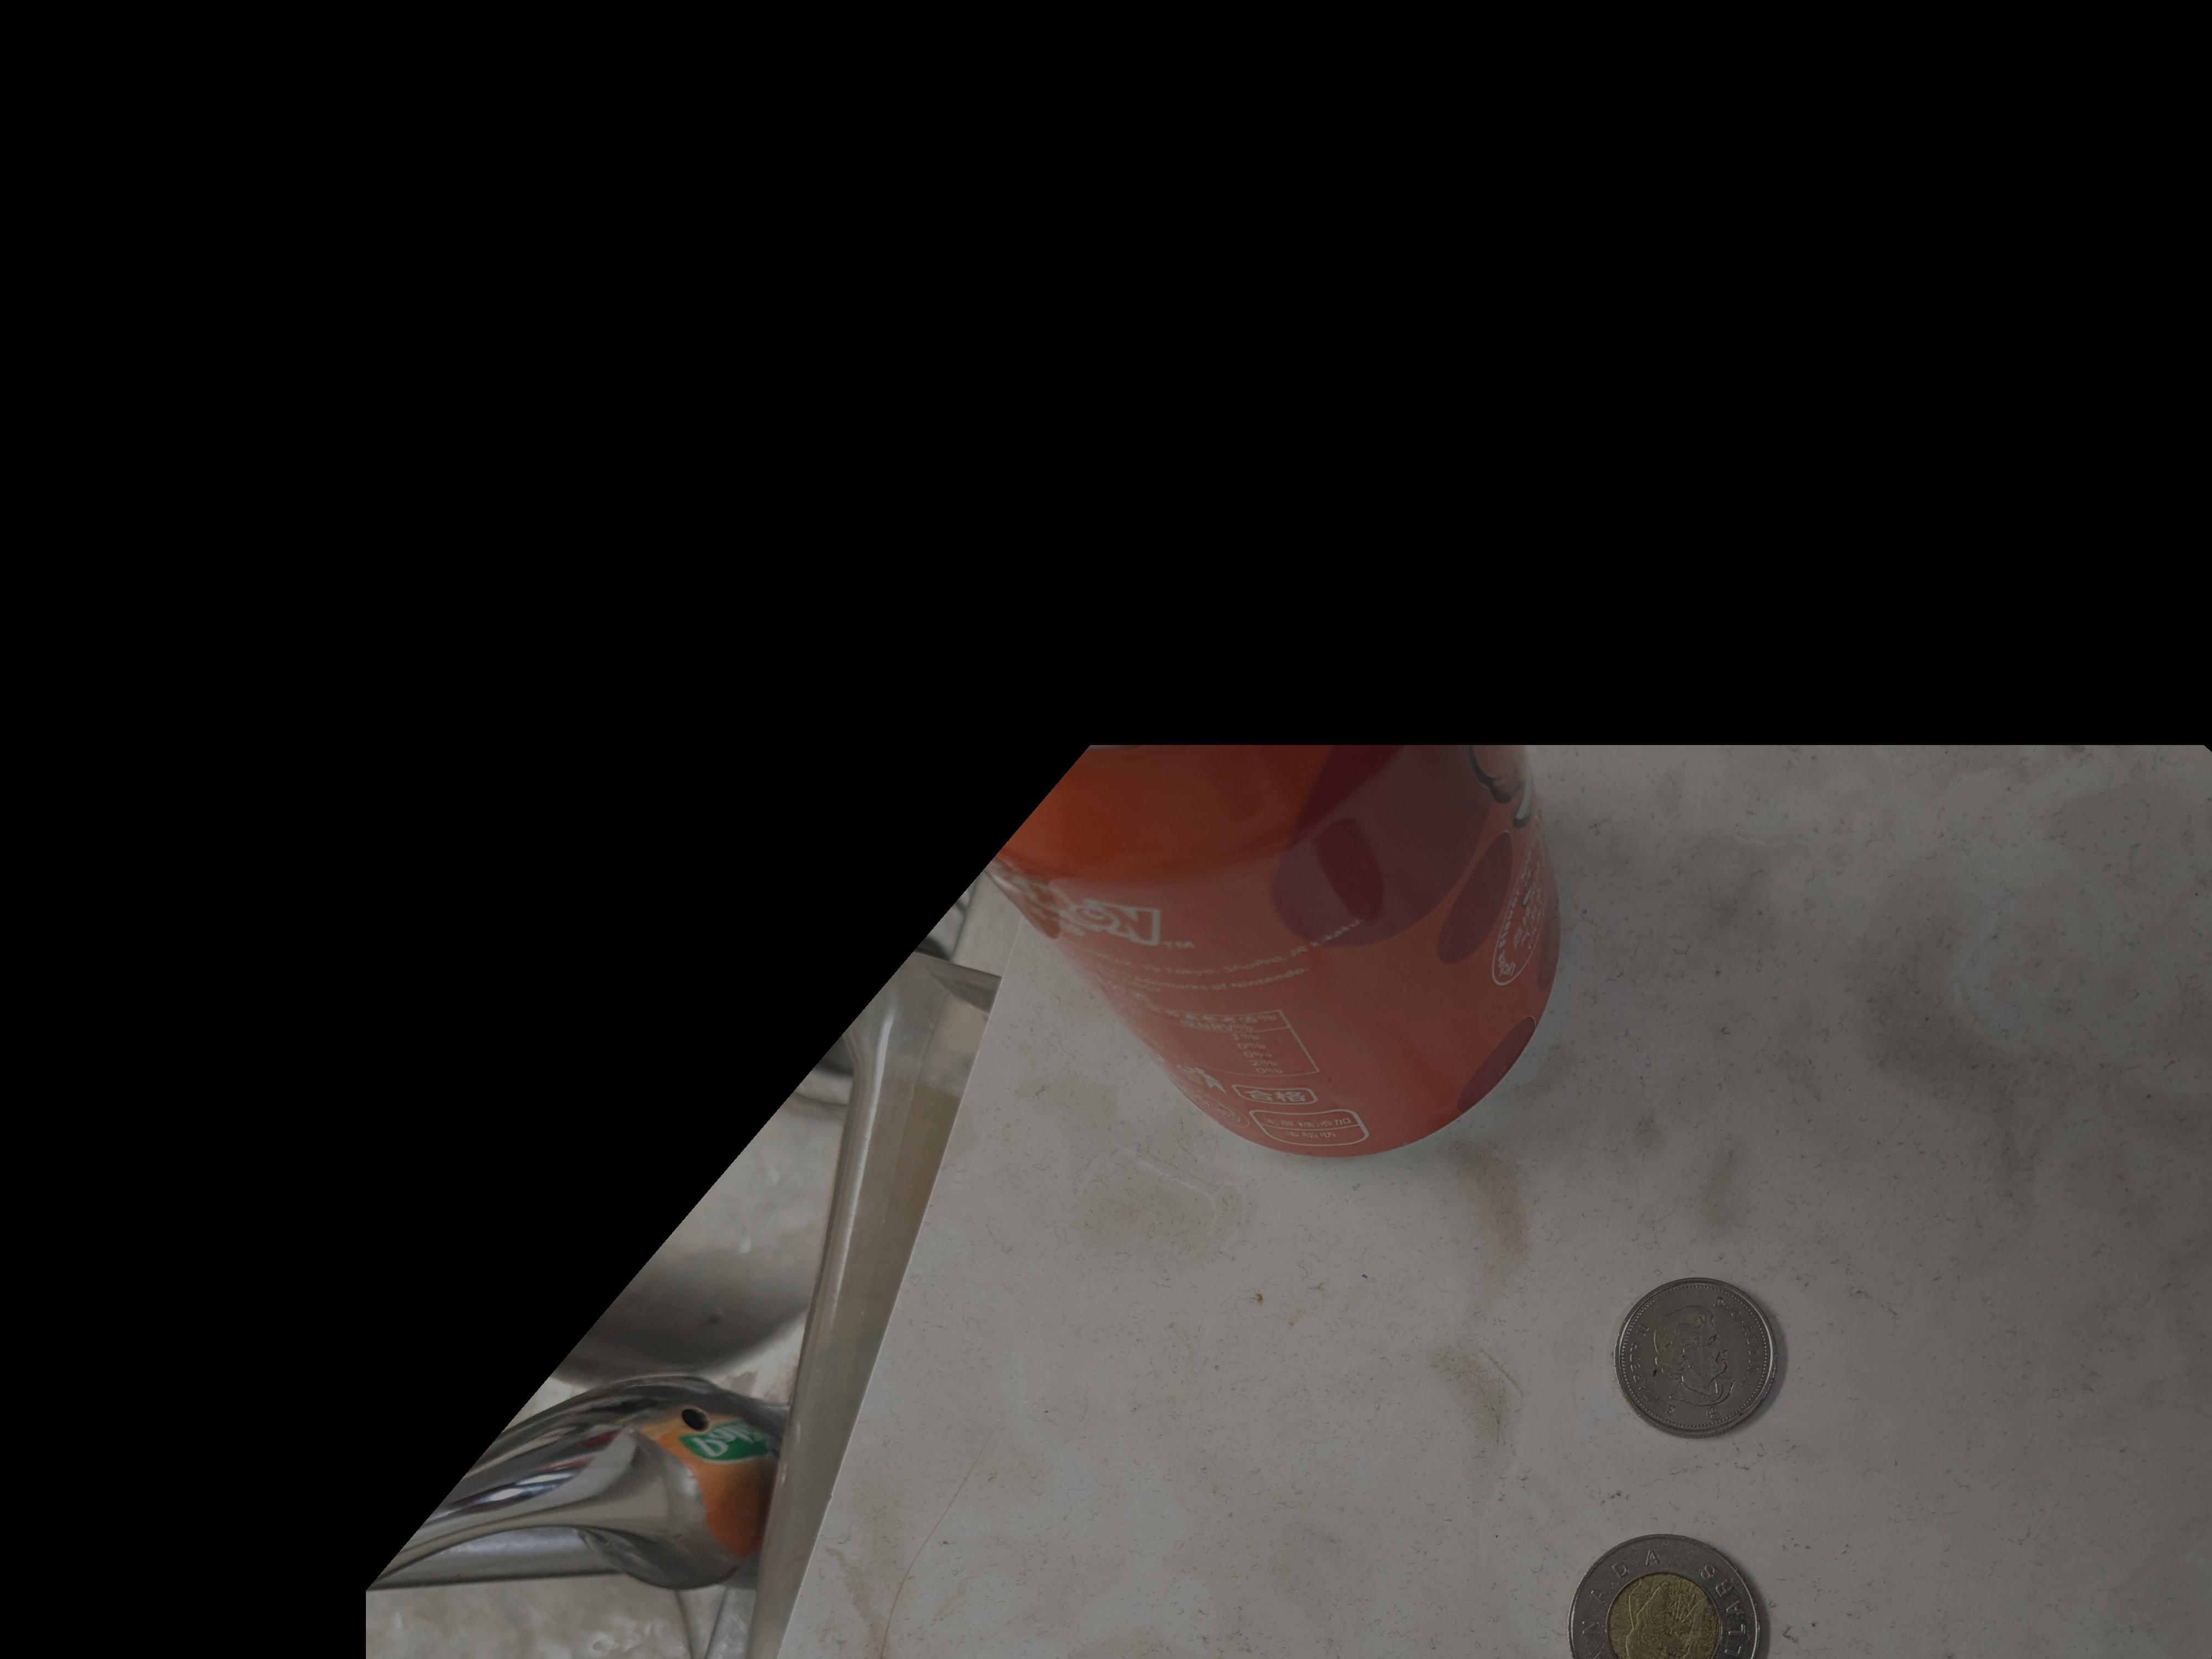quarter: (1622, 1276, 1784, 1439)
toonie: (1561, 1532, 1770, 1659)
